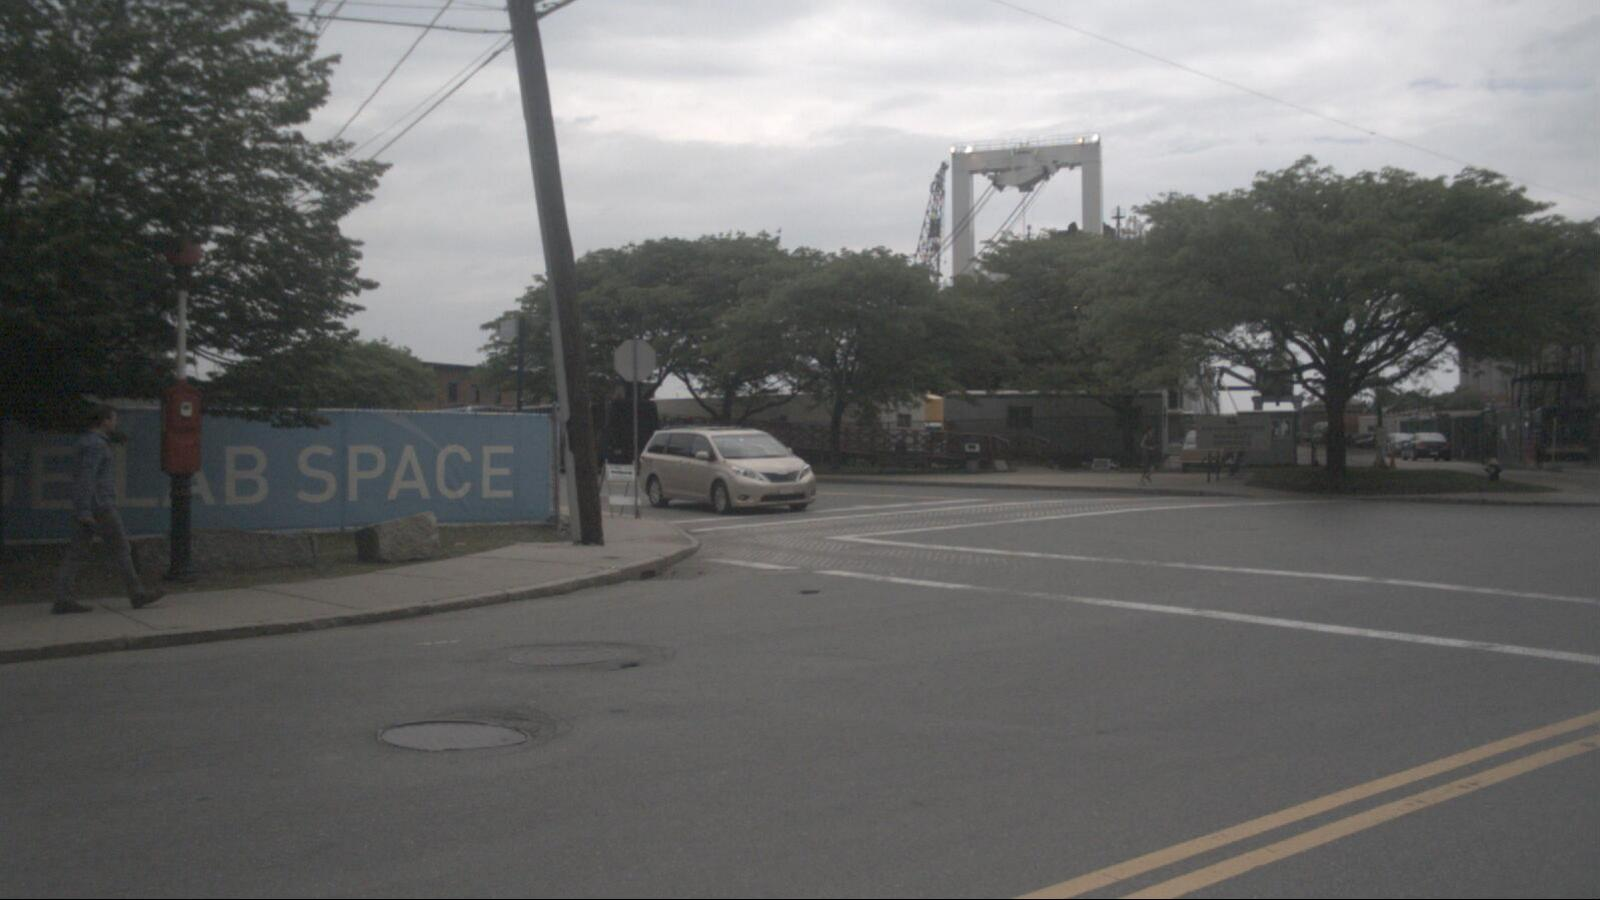human.pedestrian.adult-pedestrian.moving: (52, 405, 167, 616), (1138, 426, 1159, 488)
